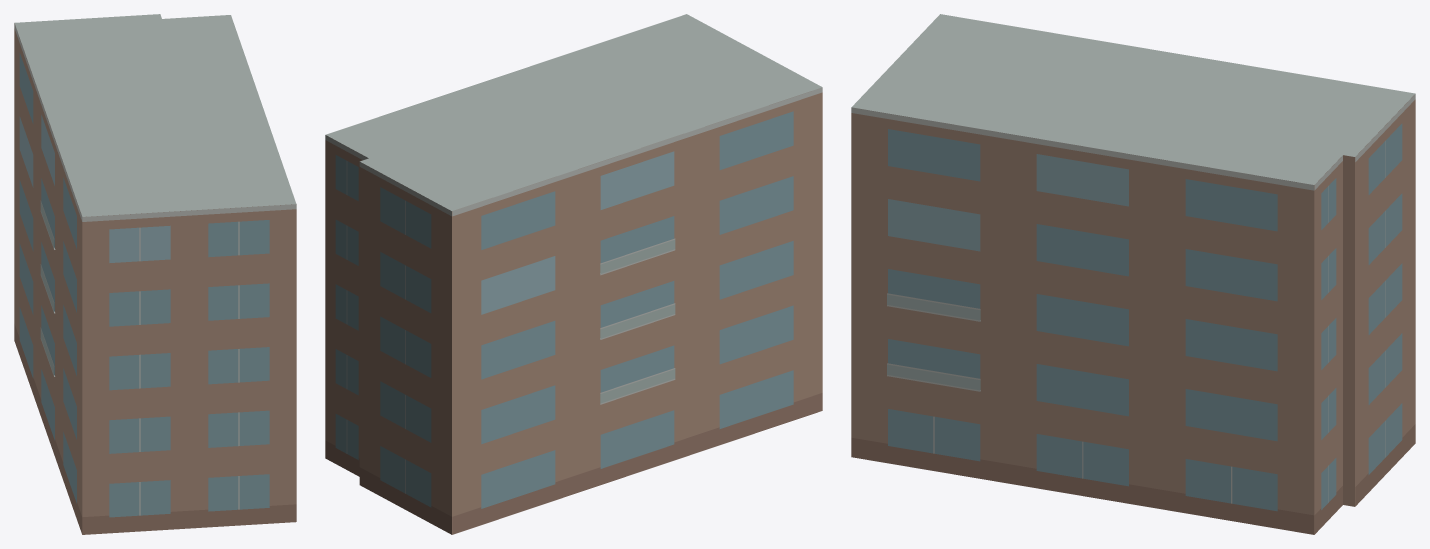
The model's file is survey-upis-32750514.glb.
3 renders of one model, left to right at view 1: azimuth 30°, elevation 25°; view 2: azimuth 150°, elevation 25°; view 3: azimuth 270°, elevation 25°, orthographic. The views are drawn at different scales.
Parts seen in each view (by area): view 1: survey-upis-32750514.tmp; view 2: survey-upis-32750514.tmp; view 3: survey-upis-32750514.tmp.
Boxes of the visible parts, x1=… form: survey-upis-32750514.tmp: x1=14, y1=14, x2=296, y2=534; survey-upis-32750514.tmp: x1=325, y1=14, x2=822, y2=534; survey-upis-32750514.tmp: x1=851, y1=14, x2=1415, y2=534.
Bounding box in the file's own units: 16 × 15.25 × 22.3.
